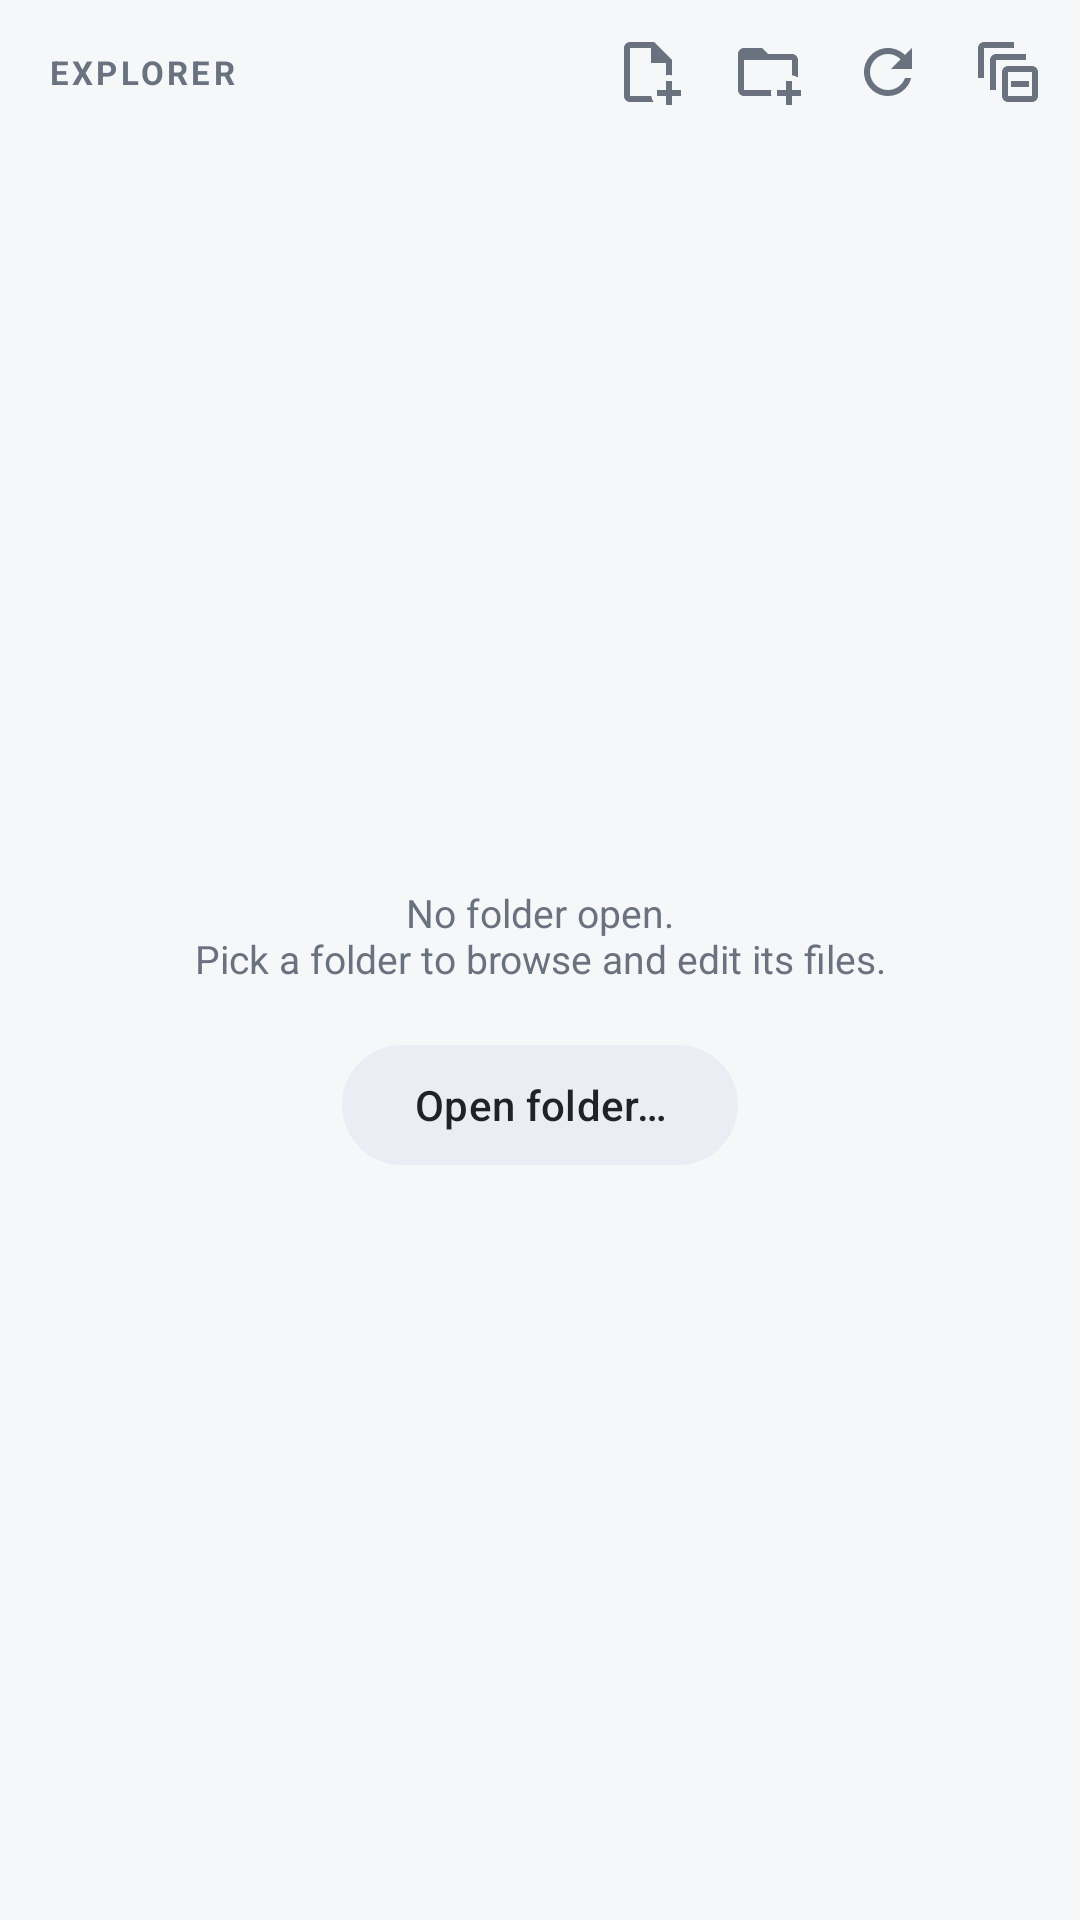

Screen size 1080w x 1920h. Icon name, then its box in pixels as (x1, y1, x2, y2):
Collapse all folders: (978, 42, 1038, 102)
New file: (624, 42, 681, 105)
New folder: (738, 48, 801, 105)
Refresh: (864, 48, 912, 96)
